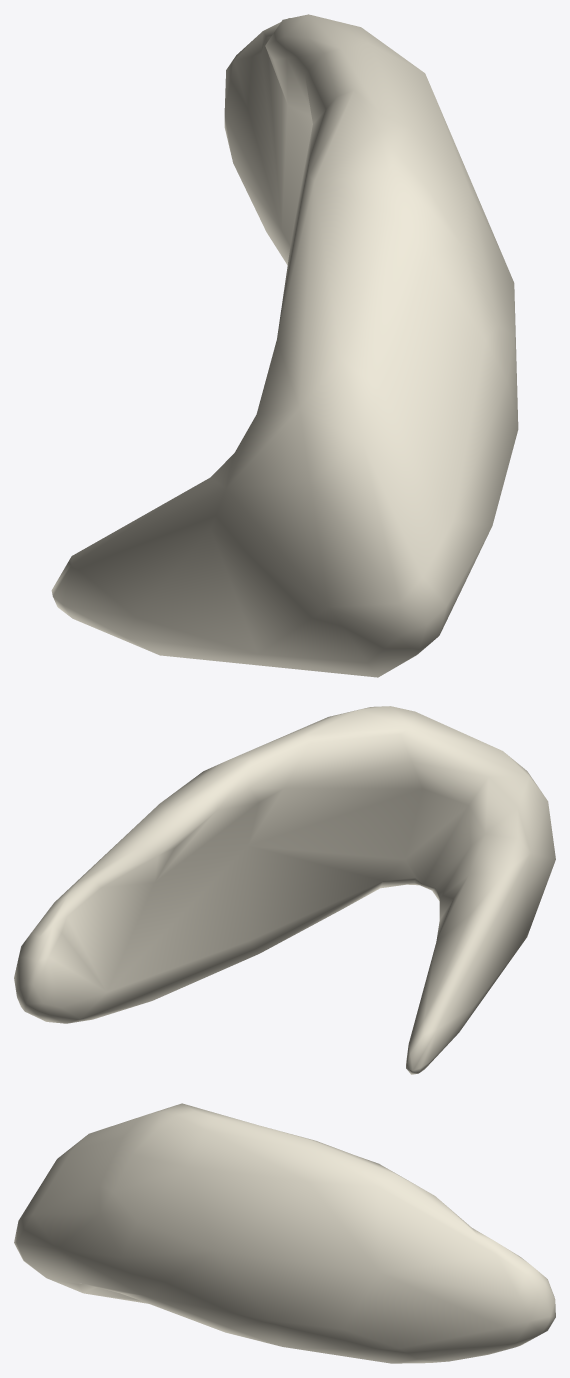
3 views of the same model, one above another, from view 1: azimuth 30°, elevation 25°; view 2: azimuth 150°, elevation 25°; view 3: azimuth 270°, elevation 25° (orthographic). The views are drawn at different scales.
Parts seen in each view (by area): view 1: ZA_b3c460b729e41943; view 2: ZA_b3c460b729e41943; view 3: ZA_b3c460b729e41943.
Part boxes in pixels (x1,y1,x2,y2): ZA_b3c460b729e41943: (51,14,518,677); ZA_b3c460b729e41943: (14,706,555,1074); ZA_b3c460b729e41943: (14,1103,555,1363).
Bounding box in the file's own units: 0.0148 × 0.0142 × 0.0274.
